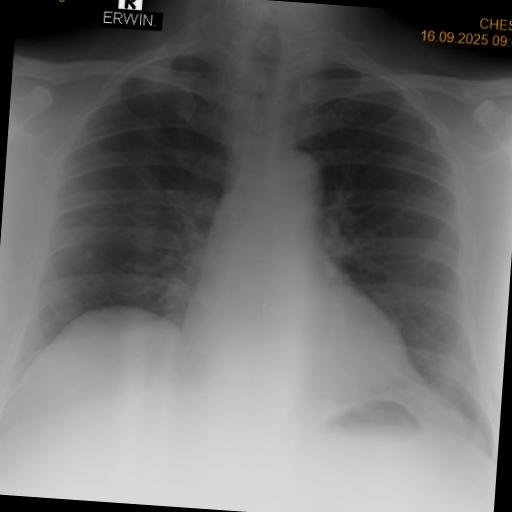kardiomegali: (0, 8, 512, 454)
